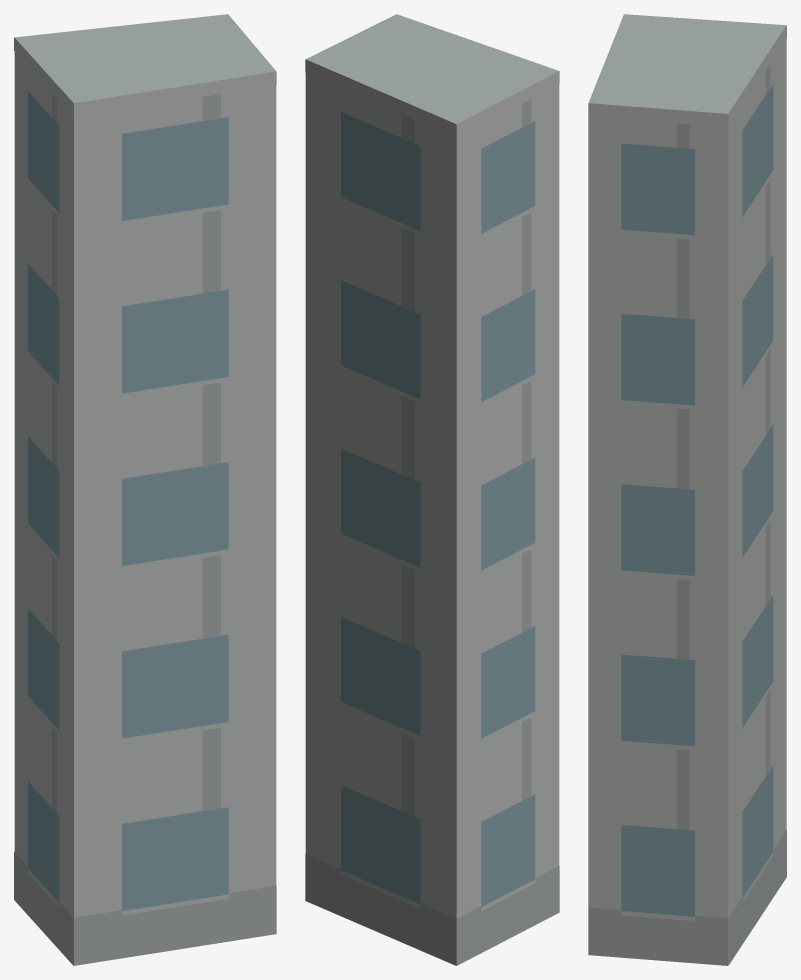
The model's file is survey-upis-32757340.glb.
3 renders of one model, left to right at view 1: azimuth 30°, elevation 25°; view 2: azimuth 150°, elevation 25°; view 3: azimuth 270°, elevation 25°, orthographic. The views are drawn at different scales.
Visible parts, largest first — view 1: survey-upis-32757340.tmp; view 2: survey-upis-32757340.tmp; view 3: survey-upis-32757340.tmp.
Boxes of the visible parts, x1,y1,x2,y2 form: survey-upis-32757340.tmp: (14,14,276,965); survey-upis-32757340.tmp: (305,14,559,965); survey-upis-32757340.tmp: (588,14,786,965).
Bounding box in the file's own units: 3.84 × 15.25 × 3.23.
